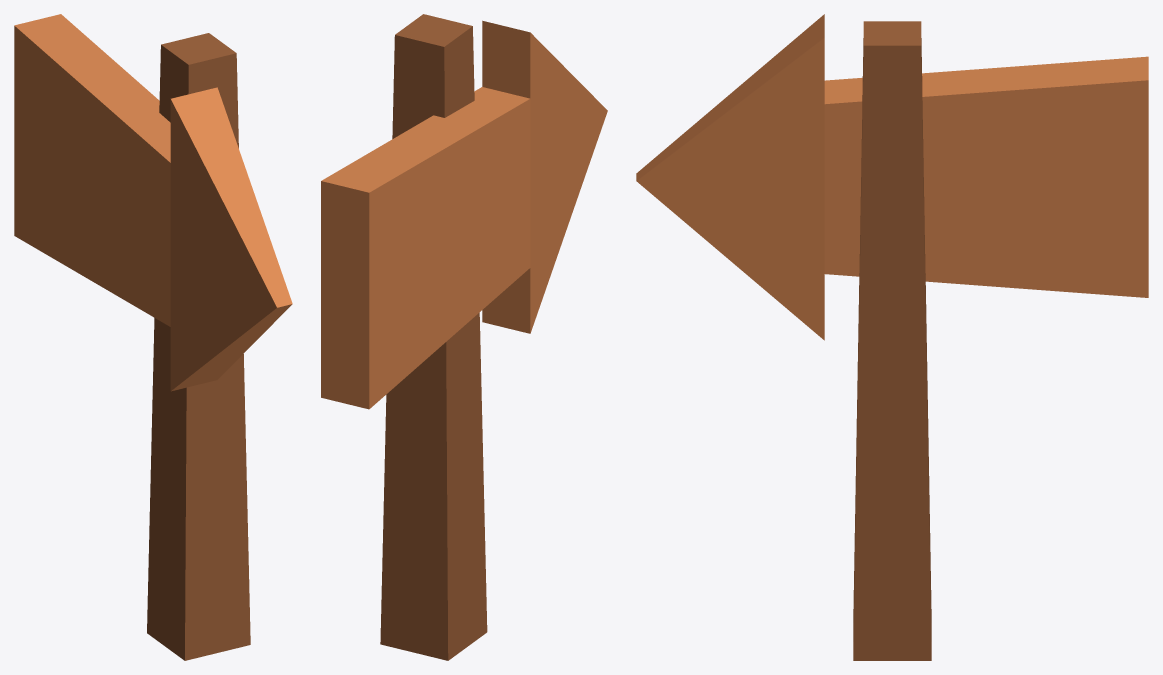
The model's file is arrow.fbx.
The picture shows the model from 3 angles, left to right: view 1: azimuth 30°, elevation 25°; view 2: azimuth 150°, elevation 25°; view 3: azimuth 270°, elevation 25°; orthographic projection. The views are drawn at different scales.
Visible parts, largest first — view 1: arrow (×2); view 2: arrow (×2); view 3: arrow (×2).
Part boxes in pixels (x1,y1,x2,y2): arrow (×2): (14,14,292,660); arrow (×2): (321,14,607,660); arrow (×2): (636,14,1148,660).
Bounding box in the file's own units: 0.9984 × 6 × 4.56.
